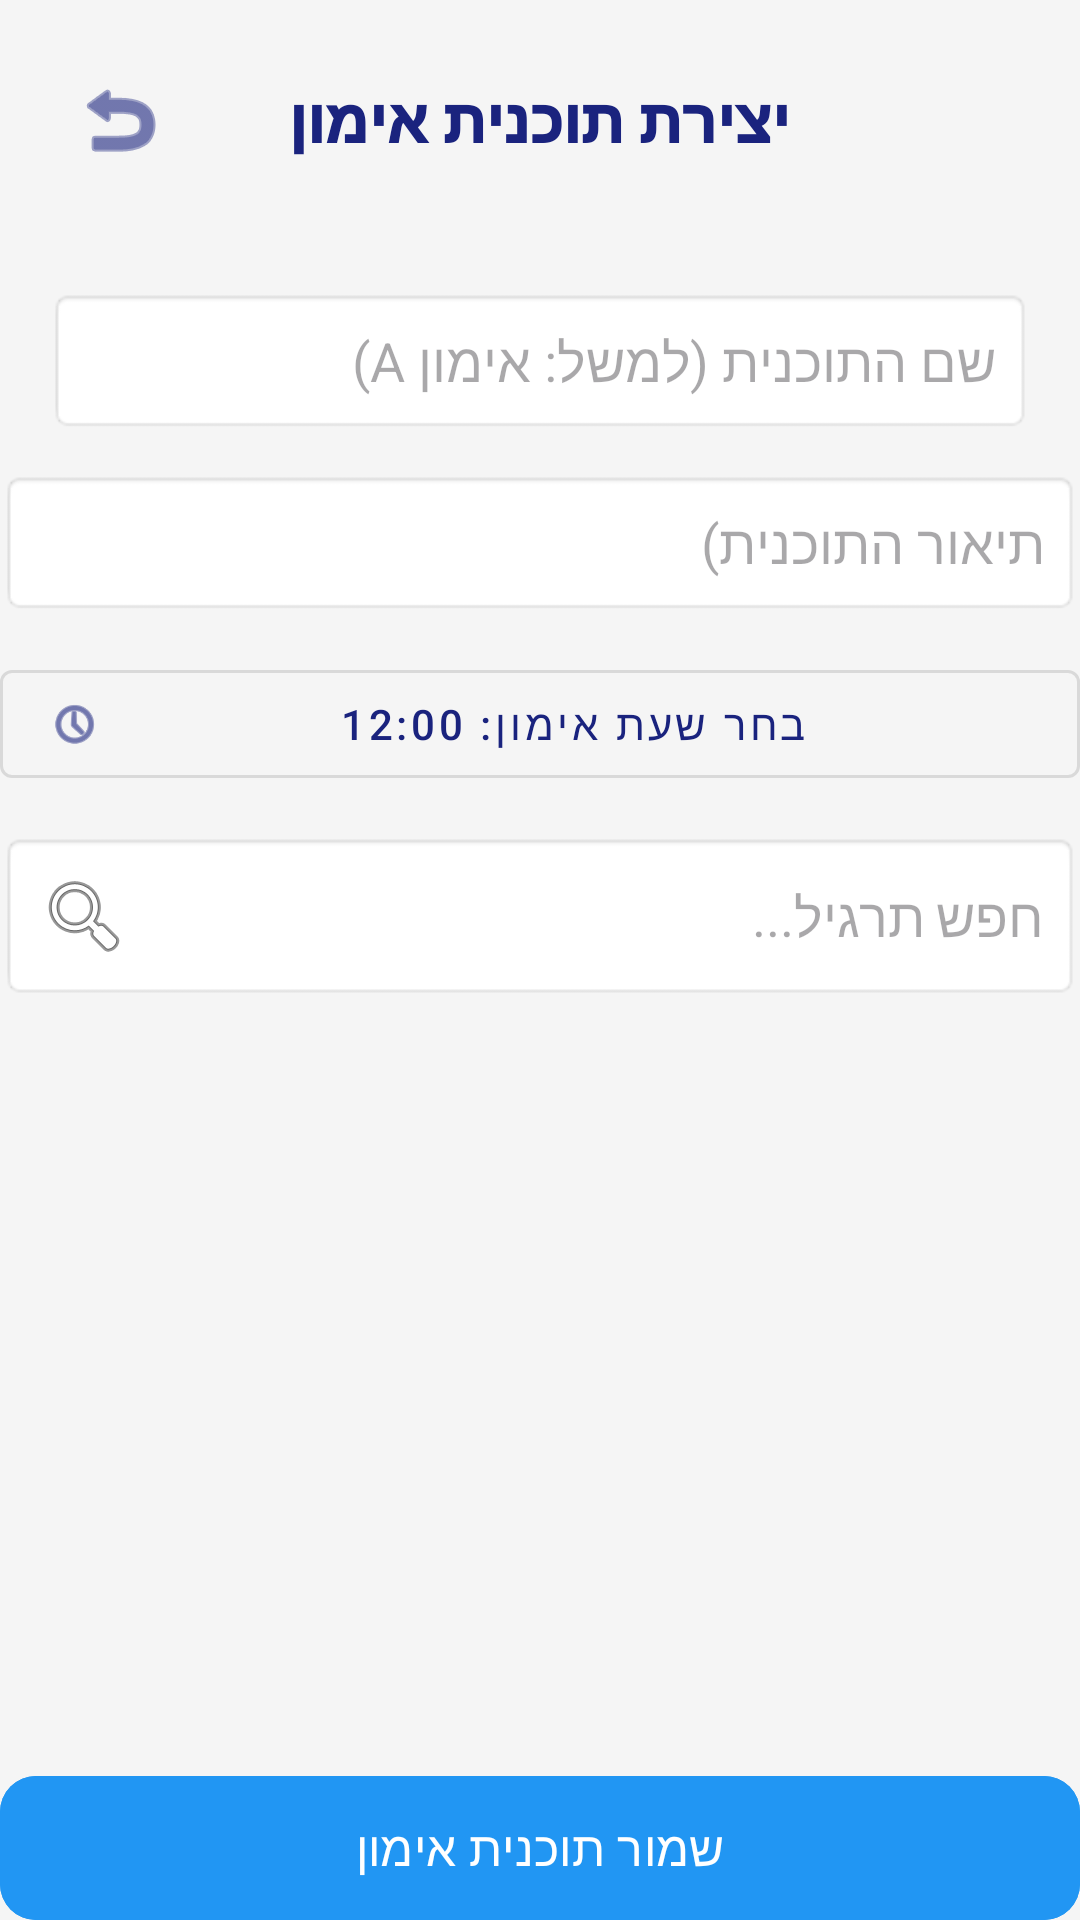

Icon bounding boxes for this 1080×1920 phone screenshot, format box(x1, y1, x2, y2):
חזרה: box(87, 89, 156, 152)
